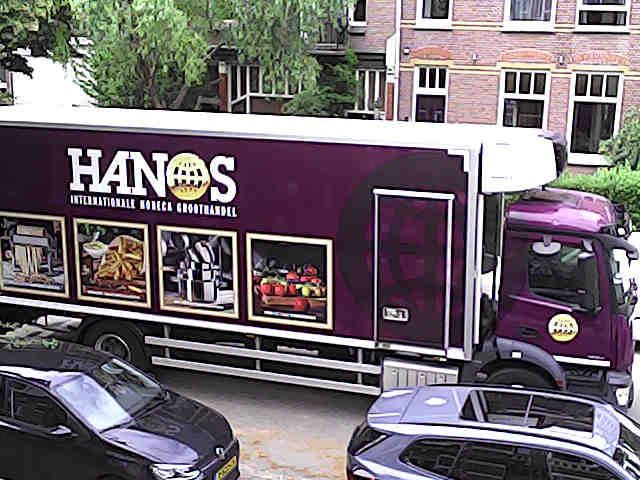suv: (0, 339, 238, 479), (347, 385, 639, 479)
whitevan: (0, 107, 637, 406)
